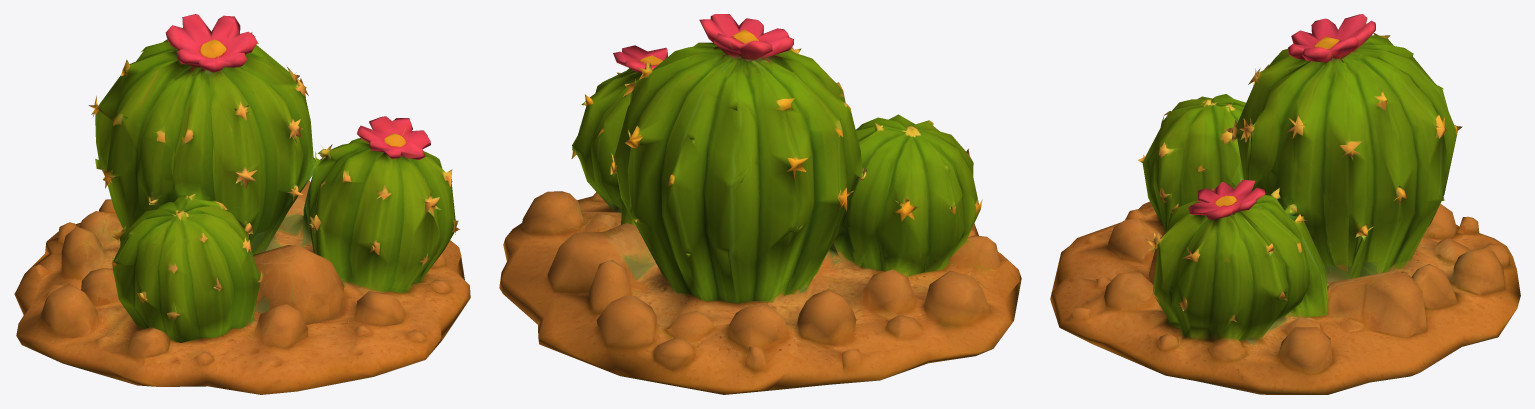
Rendered from Meshy_AI_Desert_Bloom_Trio_0512182205_texture.fbx.
The picture shows the model from 3 angles, left to right: view 1: azimuth 30°, elevation 25°; view 2: azimuth 150°, elevation 25°; view 3: azimuth 270°, elevation 25°; orthographic projection. The views are drawn at different scales.
Parts seen in each view (by area): view 1: Mesh_0; view 2: Mesh_0; view 3: Mesh_0.
Boxes of the visible parts, x1,y1,x2,y2 form: Mesh_0: [14, 14, 470, 394]; Mesh_0: [499, 14, 1021, 394]; Mesh_0: [1050, 14, 1520, 394].
Size of the model in its own units: 190 by 109 by 178.
1 material, 1 textured.
